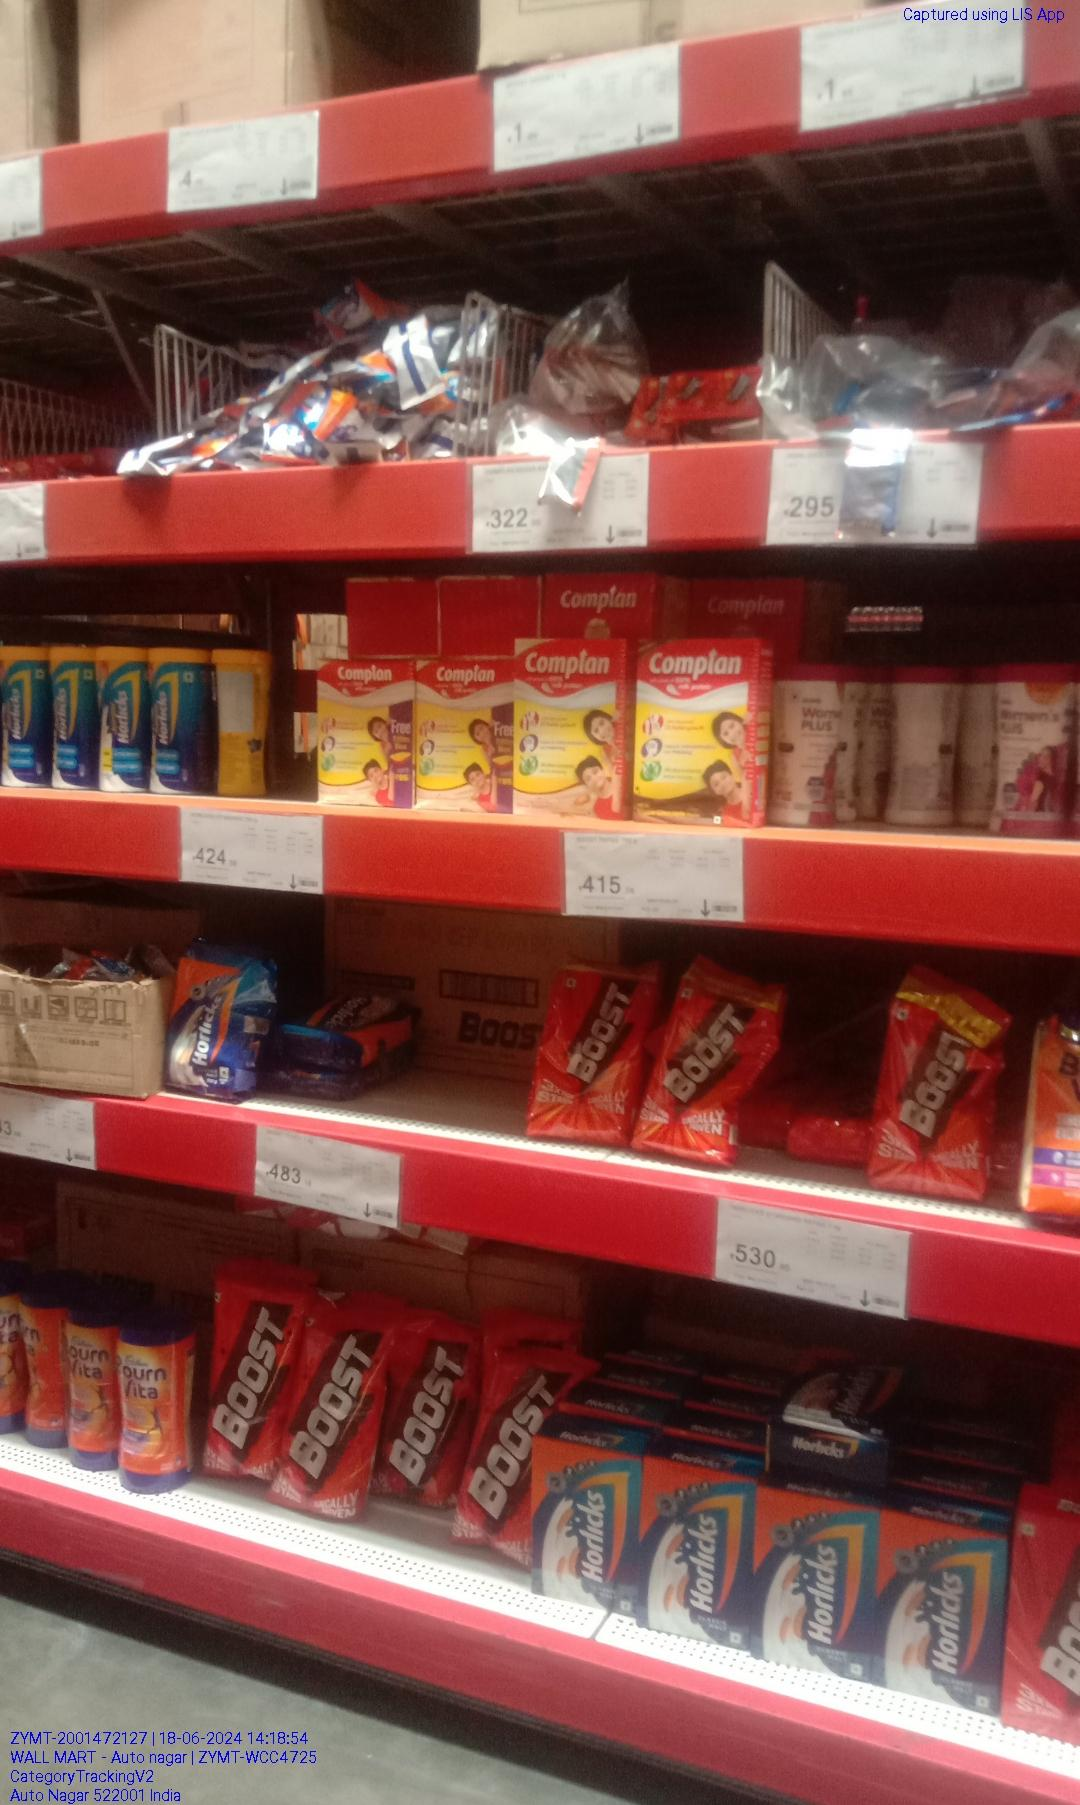BOURN_VITA_500_G_JAR: (113, 1313, 188, 1500), (62, 1292, 113, 1475)
COMPLAN_CHOCOLATE_500_GMS_PACK: (635, 643, 757, 831), (418, 663, 514, 810), (320, 663, 414, 809)
COMPLAN_KESAR_BADAM_500_GMS_PACK: (521, 638, 630, 824)
HORLICKS_JUNIOR_VANILLA_500_GM_JAR: (147, 649, 208, 795), (94, 647, 143, 792), (49, 645, 90, 791), (0, 645, 42, 786)
HORLICK_CLASSIC_MALT_500_G_PACK: (876, 1525, 1002, 1705), (759, 1496, 870, 1674), (648, 1460, 753, 1648), (537, 1444, 638, 1616)
HORLICK_CLASSIC_MALT_750_G_POUCH: (168, 942, 262, 1098)
